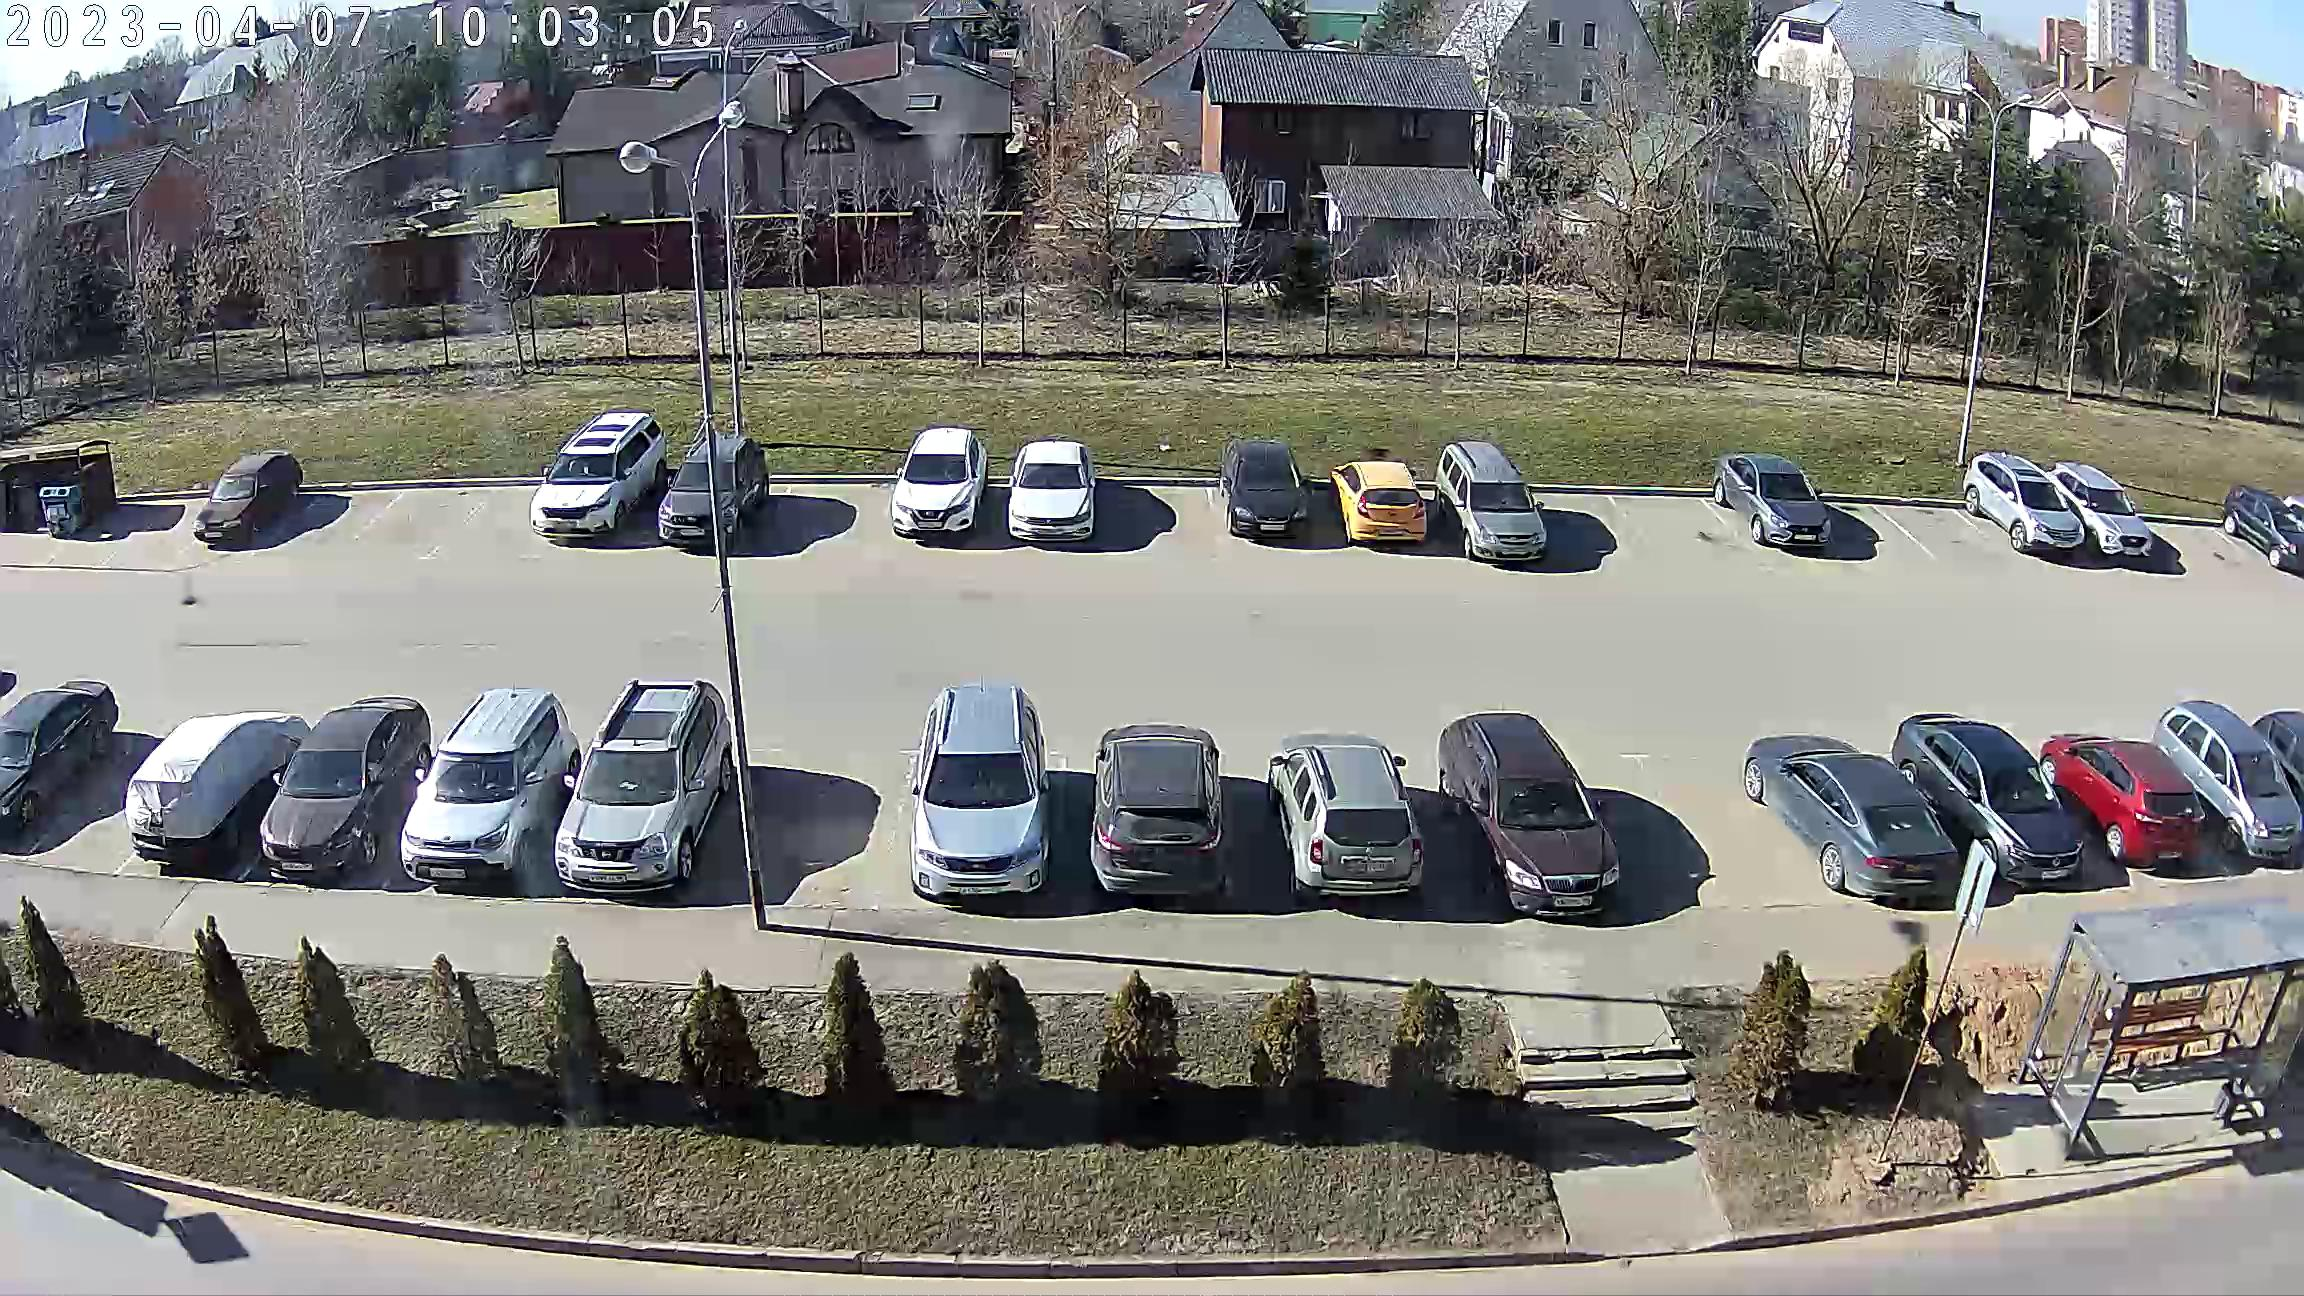empty: (883, 674, 1081, 900), (540, 676, 742, 894), (1749, 739, 1983, 899), (1448, 725, 1649, 905), (375, 696, 568, 880), (236, 704, 413, 889), (1073, 722, 1255, 899), (1908, 723, 2089, 891), (1269, 741, 1451, 902), (108, 720, 279, 870), (2165, 693, 2304, 873), (1962, 457, 2174, 568), (2049, 728, 2204, 872), (2, 671, 114, 848), (529, 418, 668, 538), (1440, 448, 1576, 567), (1711, 460, 1863, 559), (646, 432, 769, 548), (986, 441, 1108, 549), (883, 427, 1005, 535), (174, 459, 310, 551), (1214, 448, 1331, 549), (1331, 462, 1448, 548), (2236, 487, 2304, 578)
occupied: (752, 788, 897, 892), (1628, 813, 1783, 908), (51, 726, 157, 859), (451, 454, 551, 563), (366, 465, 465, 563), (774, 465, 880, 557), (1112, 456, 1207, 554), (280, 454, 358, 567), (2160, 494, 2236, 593), (1636, 470, 1720, 560), (1537, 475, 1616, 567), (123, 478, 203, 559), (1829, 483, 1902, 568), (1916, 517, 1983, 551)
